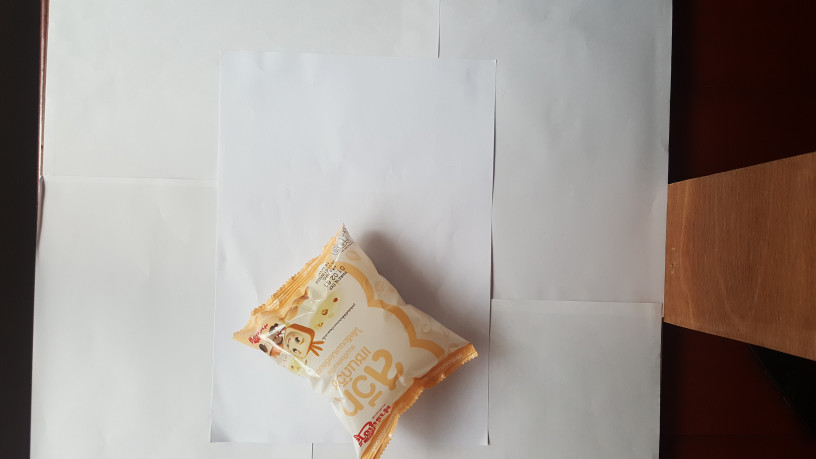farmhouse-sweetsandwich-almond: (219, 227, 485, 459)
